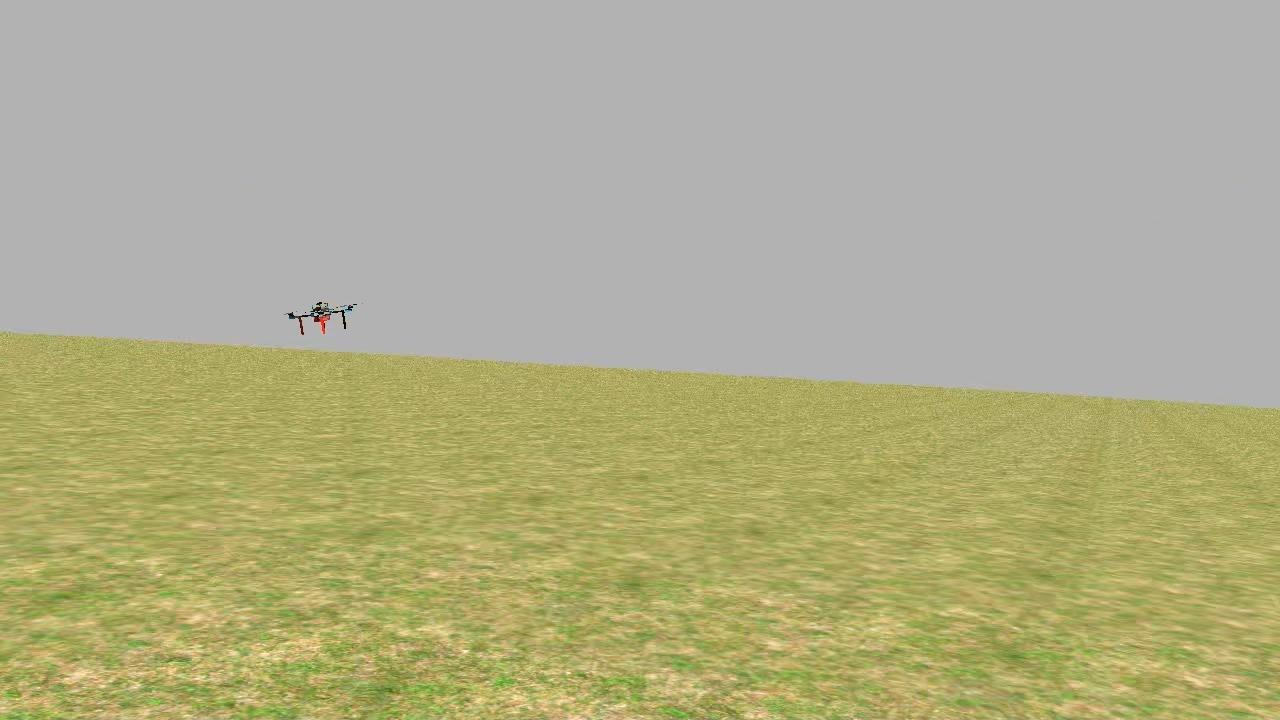UAV: (280, 292, 364, 344)
